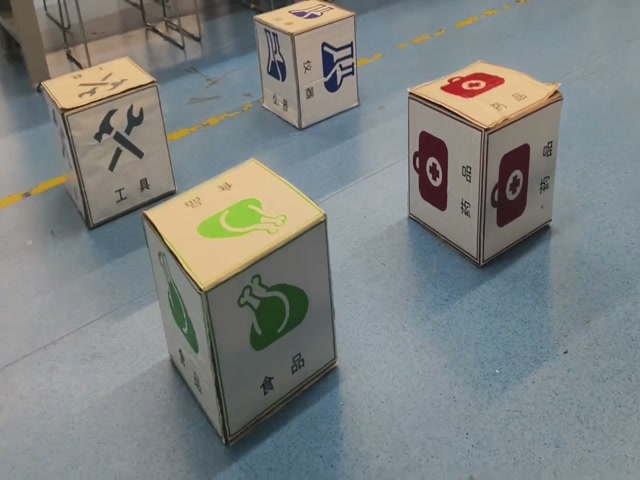Cube_food: (142, 157, 326, 294)
Cube_ins: (252, 1, 355, 36)
Cube_medicine: (405, 52, 563, 134)
Cube_tool: (40, 55, 158, 114)
